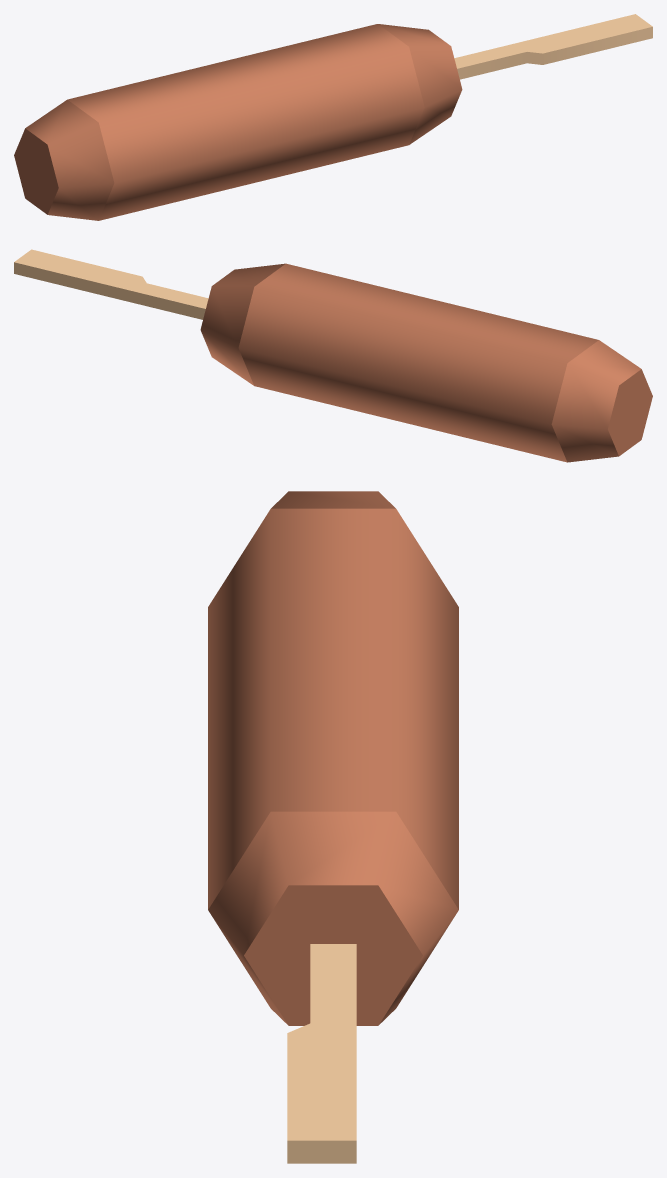
File: cornDog.obj
3 renders of one model, top to bottom at view 1: azimuth 30°, elevation 25°; view 2: azimuth 150°, elevation 25°; view 3: azimuth 270°, elevation 25°, orthographic. The views are drawn at different scales.
Parts seen in each view (by area): view 1: dog, cornDog; view 2: dog, cornDog; view 3: dog, cornDog.
Boxes of the visible parts, x1,y1,x2,y2 form: dog: (14, 24, 462, 220); cornDog: (454, 14, 652, 79); dog: (200, 263, 652, 462); cornDog: (14, 249, 208, 319); dog: (208, 491, 458, 1025); cornDog: (287, 944, 356, 1163).
Bounding box in the file's own units: 0.6044 × 0.094 × 0.1085.
